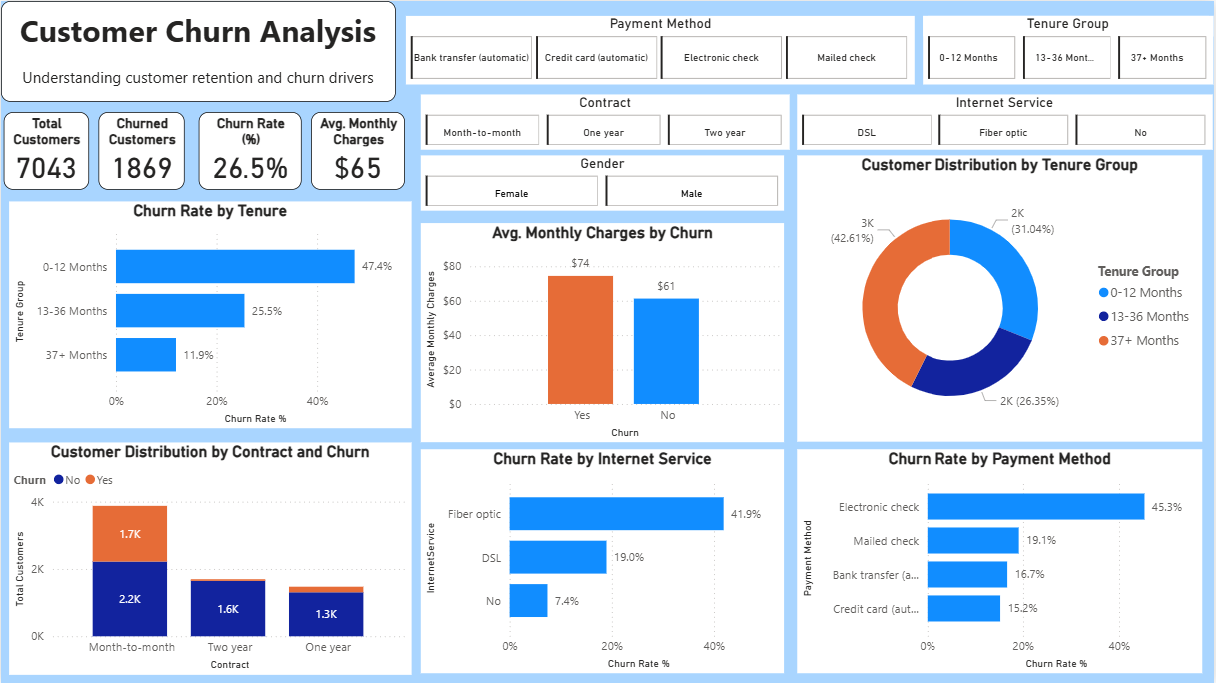

This screenshot's page, from the dashboard's own definition file:
{"tool":"powerbi","page":{"name":"Churn Overview","canvas":[1280,720],"ordinal":0},"visuals":[{"type":"card","title":"Total Customers","fields":{"Values":["Telco_Customer_Churn_Dataset.Total Customers"]},"box":[2.7,117,89.8,81.6],"z":0},{"type":"card","title":"Churned Customers","fields":{"Values":["Telco_Customer_Churn_Dataset.Churned Customers"]},"box":[103.4,117,91.1,81.6],"z":1},{"type":"card","title":"Avg. Monthly Charges","fields":{"Values":["Telco_Customer_Churn_Dataset.Average Monthly Charges"]},"box":[327.8,117,99.3,81.6],"z":2},{"type":"card","title":"Churn Rate (%)","fields":{"Values":["Telco_Customer_Churn_Dataset.Churn Rate %"]},"box":[208.1,117,108.8,81.6],"z":3},{"type":"barChart","title":"Churn Rate by Tenure","fields":{"Category":["Telco_Customer_Churn_Dataset.tenure_segment"],"Y":["Telco_Customer_Churn_Dataset.Churn Rate %"]},"box":[8.2,210.8,424.3,239.4],"z":4},{"type":"barChart","title":"Churn Rate by Payment Method","fields":{"Category":["Telco_Customer_Churn_Dataset.PaymentMethod"],"Y":["Telco_Customer_Churn_Dataset.Churn Rate %"]},"box":[840.5,473.3,428.4,236.6],"z":5},{"type":"donutChart","title":"Customer Distribution by Tenure Group","fields":{"Y":["Telco_Customer_Churn_Dataset.Total Customers"],"Category":["Telco_Customer_Churn_Dataset.tenure_segment"]},"box":[840.5,163.2,428.4,301.9],"z":7},{"type":"textbox","box":[0,0,416.2,106.1],"z":8},{"type":"advancedSlicerVisual","fields":{"Values":["Telco_Customer_Churn_Dataset.Contract"]},"box":[443.4,99.3,389,58.5],"z":9},{"type":"advancedSlicerVisual","title":"Tenure Group","fields":{"Values":["Telco_Customer_Churn_Dataset.tenure_segment"]},"box":[972.4,16.3,307.4,72.1],"z":10},{"type":"advancedSlicerVisual","title":"Internet Service","fields":{"Values":["Telco_Customer_Churn_Dataset.InternetService"]},"box":[840.5,99.3,439.3,58.5],"z":11},{"type":"advancedSlicerVisual","title":"Payment Method","fields":{"Values":["Telco_Customer_Churn_Dataset.PaymentMethod"]},"box":[427,16.3,537.2,72.1],"z":12},{"type":"clusteredColumnChart","title":"Avg. Monthly Charges by Churn","fields":{"Category":["Telco_Customer_Churn_Dataset.Churn"],"Y":["Telco_Customer_Churn_Dataset.Average Monthly Charges"]},"box":[443.4,233.9,383.5,231.2],"z":17},{"type":"columnChart","title":"Customer Distribution by Contract and Churn","fields":{"Category":["Telco_Customer_Churn_Dataset.Contract"],"Y":["Telco_Customer_Churn_Dataset.Total Customers"],"Series":["Telco_Customer_Churn_Dataset.Churn"]},"box":[8.2,465.1,424.3,244.8],"z":19},{"type":"barChart","title":"Churn Rate by Internet Service","fields":{"Category":["Telco_Customer_Churn_Dataset.InternetService"],"Y":["Telco_Customer_Churn_Dataset.Churn Rate %"]},"box":[443.4,473.3,383.5,236.6],"z":20},{"type":"advancedSlicerVisual","title":"Gender","fields":{"Values":["Telco_Customer_Churn_Dataset.gender"]},"box":[443.4,163.2,383.5,58.5],"z":21}]}

Visuals, with their boxes in screenshot pixels (x1, y1, x2, y2), scaled from the page's 1280x720 canvas onto the 1216x683 screenshot:
"Total Customers" card: bbox=[3, 111, 88, 188]
"Churned Customers" card: bbox=[98, 111, 185, 188]
"Avg. Monthly Charges" card: bbox=[311, 111, 406, 188]
"Churn Rate (%)" card: bbox=[198, 111, 301, 188]
"Churn Rate by Tenure" barChart: bbox=[8, 200, 411, 427]
"Churn Rate by Payment Method" barChart: bbox=[798, 449, 1205, 673]
"Customer Distribution by Tenure Group" donutChart: bbox=[798, 155, 1205, 441]
textbox: bbox=[0, 0, 395, 101]
advancedSlicerVisual - Telco_Customer_Churn_Dataset.Contract: bbox=[421, 94, 791, 150]
"Tenure Group" advancedSlicerVisual: bbox=[924, 15, 1215, 84]
"Internet Service" advancedSlicerVisual: bbox=[798, 94, 1215, 150]
"Payment Method" advancedSlicerVisual: bbox=[406, 15, 916, 84]
"Avg. Monthly Charges by Churn" clusteredColumnChart: bbox=[421, 222, 786, 441]
"Customer Distribution by Contract and Churn" columnChart: bbox=[8, 441, 411, 673]
"Churn Rate by Internet Service" barChart: bbox=[421, 449, 786, 673]
"Gender" advancedSlicerVisual: bbox=[421, 155, 786, 210]
